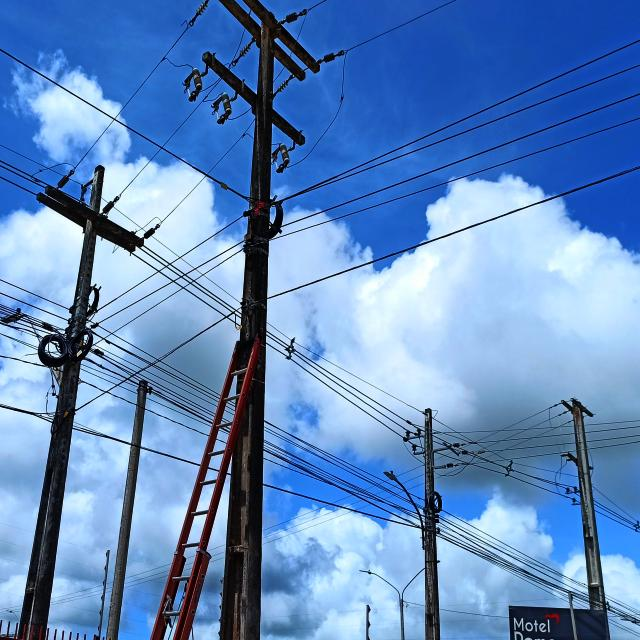Plaqueta: (257, 202, 265, 208), (254, 208, 261, 214)
